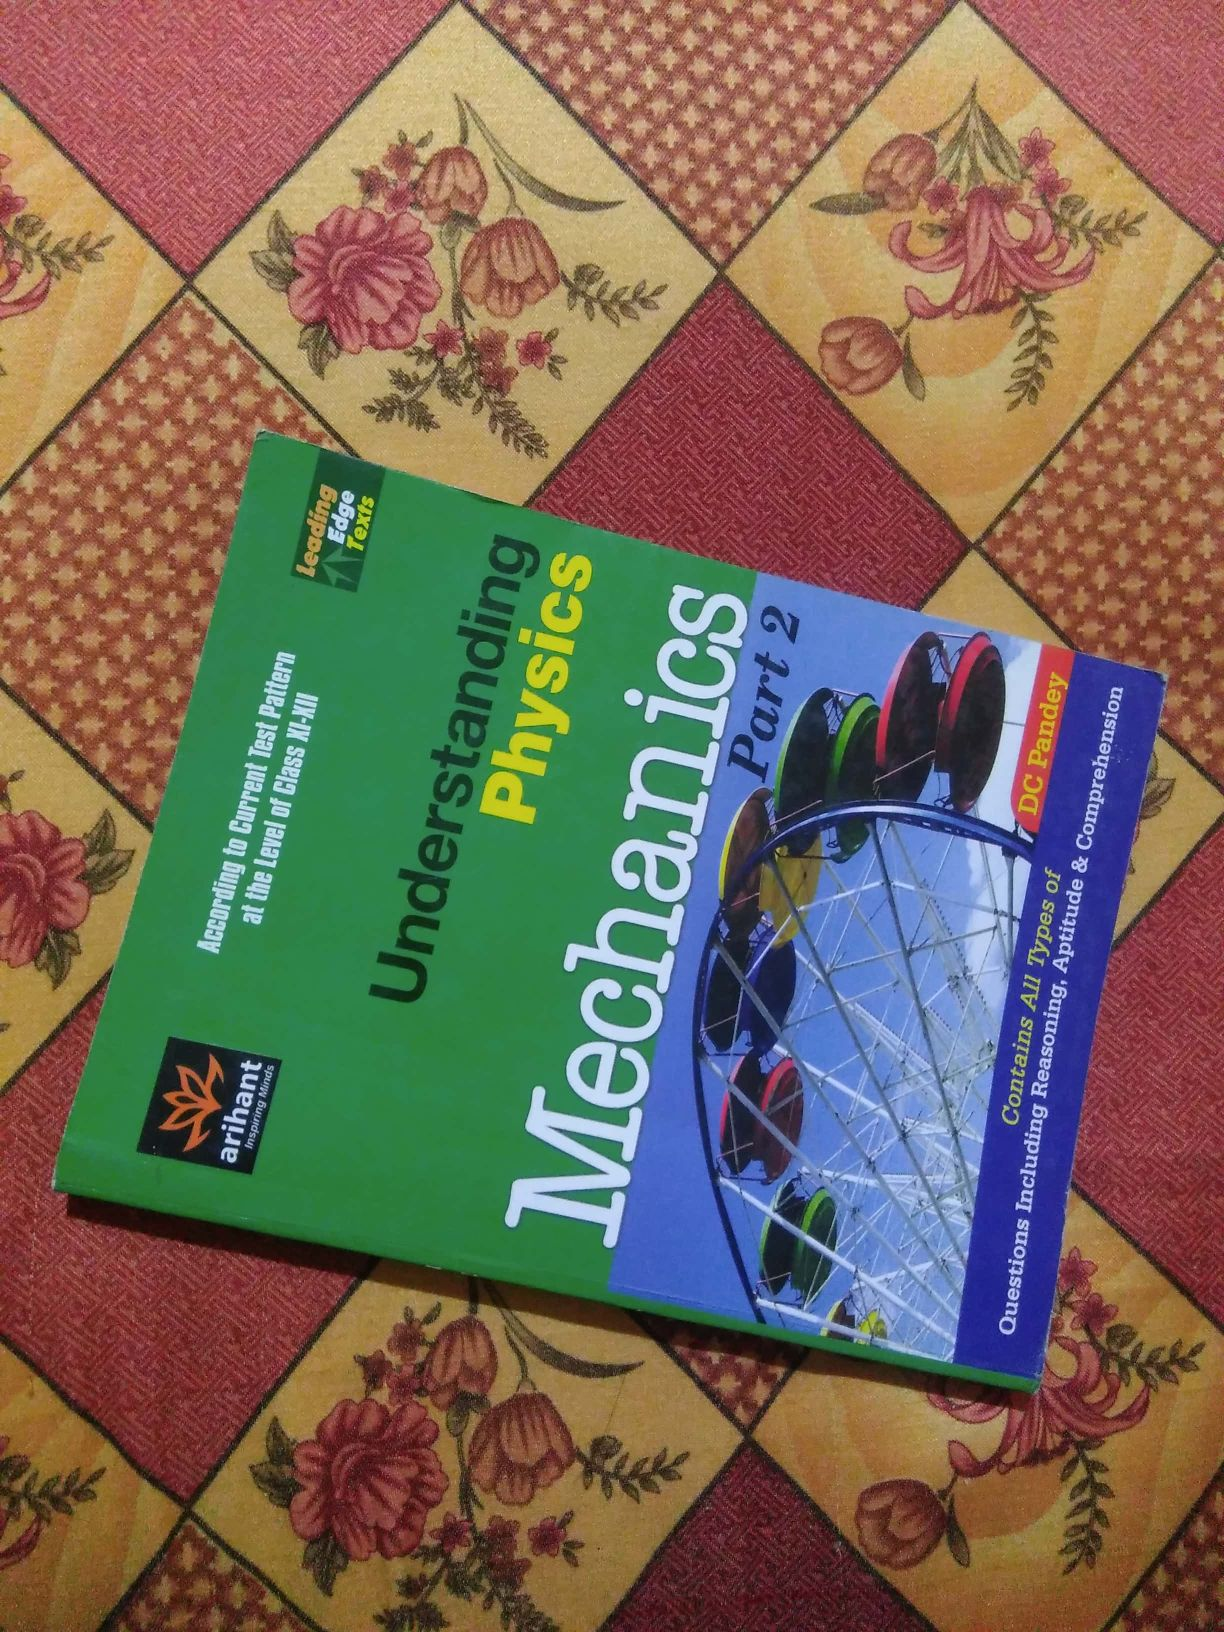mechanics: (66, 397, 1221, 1468)
